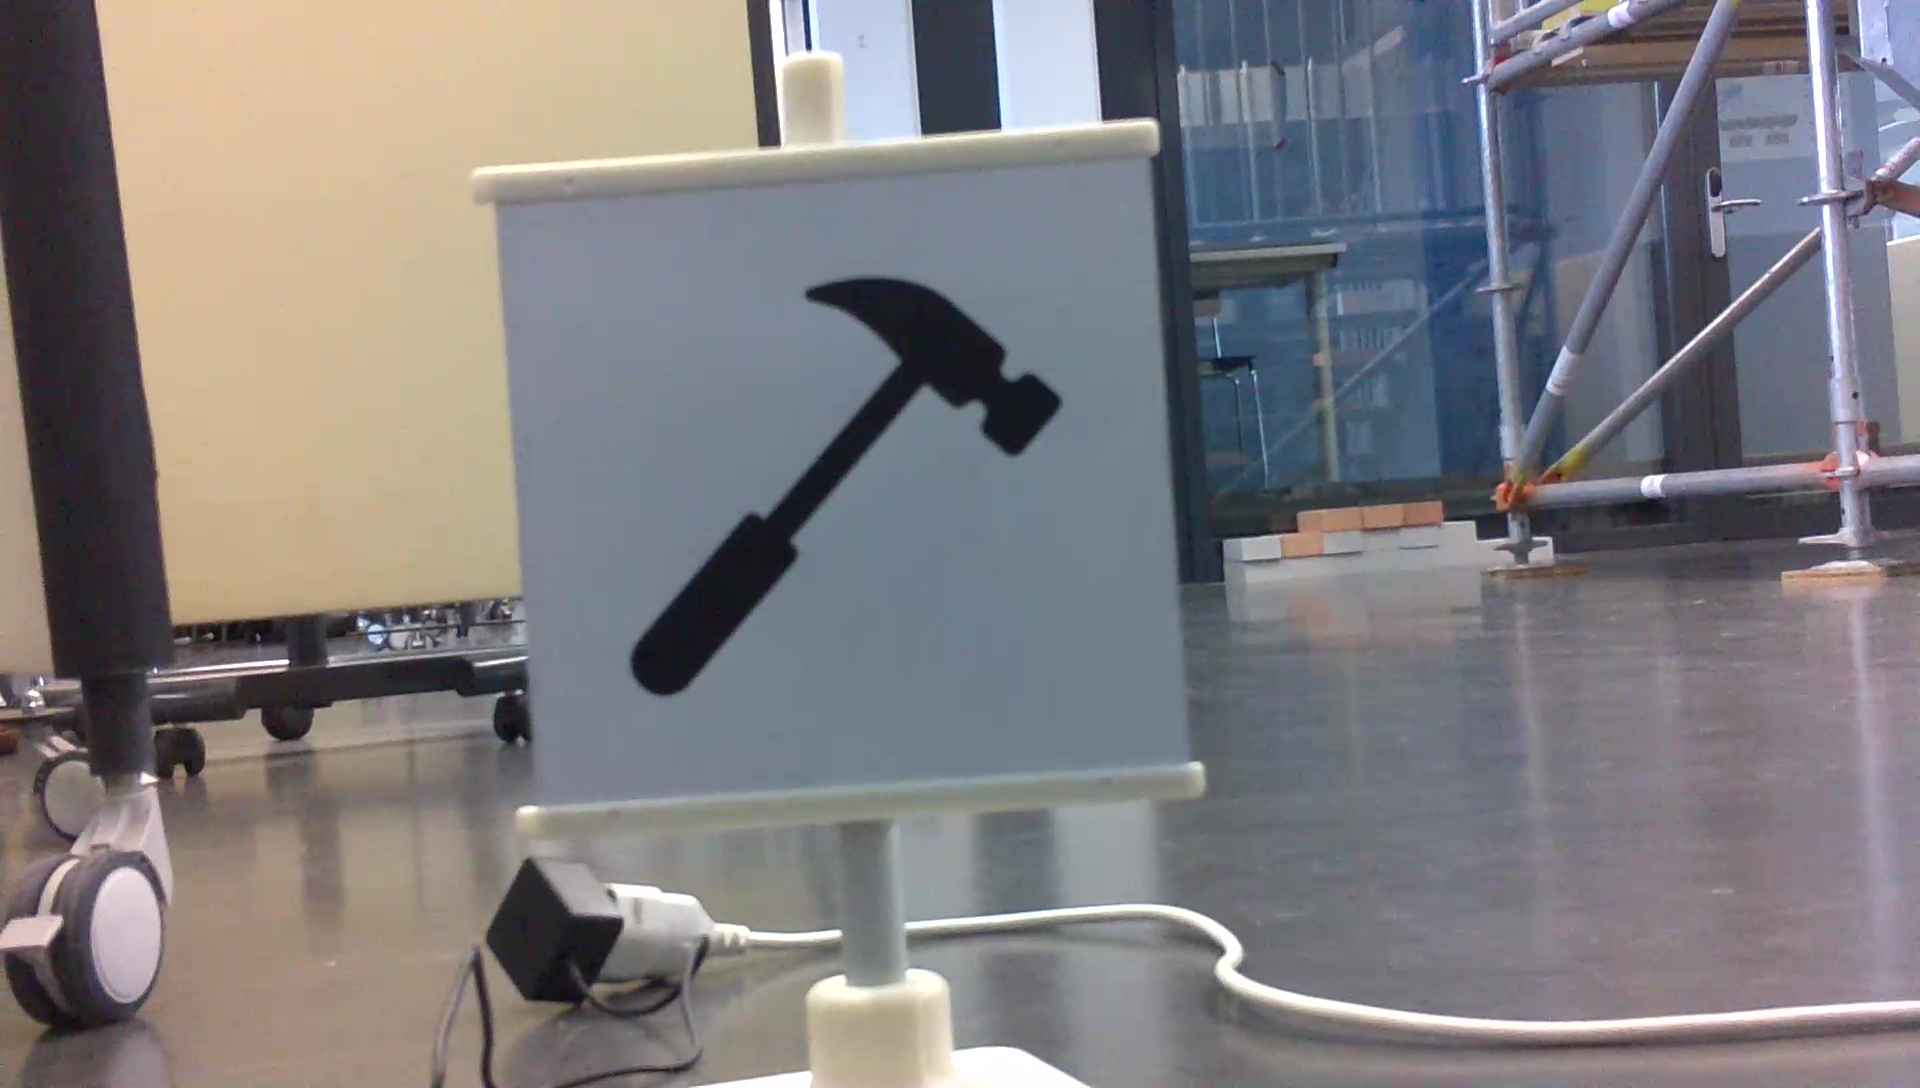hammer: (617, 265, 1073, 702)
